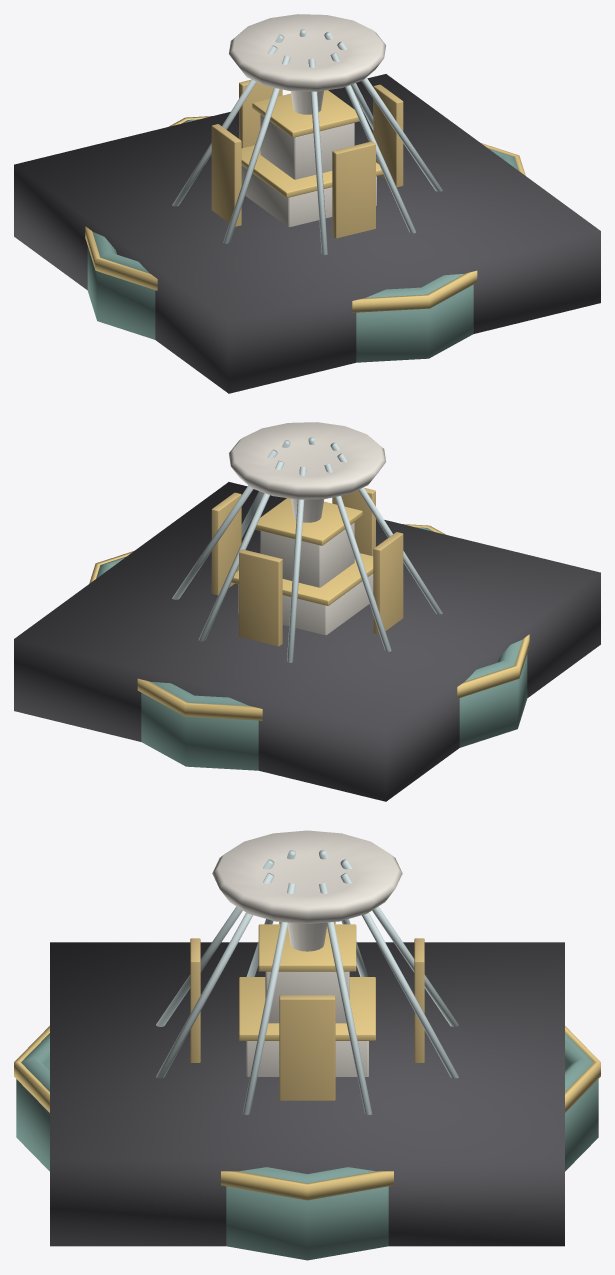
File: fontana.glb
The picture shows the model from 3 angles, top to bottom: view 1: azimuth 30°, elevation 25°; view 2: azimuth 150°, elevation 25°; view 3: azimuth 270°, elevation 25°; orthographic projection. The views are drawn at different scales.
Parts seen in each view (by area): view 1: COL_fontana, vasca, coppa, aletta_3, vasca_bordo, pilone_2, aletta_2, pilone_1, pilone_oro_2, aletta_0, pilone_oro_1, aletta_1 (+5 smaller); view 2: COL_fontana, vasca, coppa, aletta_1, vasca_bordo, pilone_2, aletta_2, pilone_1, pilone_oro_2, aletta_0, pilone_oro_1, aletta_3 (+5 smaller); view 3: COL_fontana, vasca, coppa, aletta_0, vasca_bordo, pilone_oro_1, pilone_oro_2, pilone_2, pilone_1, zampillo_0, zampillo_7, zampillo_1 (+5 smaller).
Boxes of the visible parts, bbox=[...] form: COL_fontana: bbox=[14, 74, 600, 393]; vasca: bbox=[87, 119, 518, 362]; coppa: bbox=[229, 14, 385, 114]; aletta_3: bbox=[332, 141, 375, 238]; vasca_bordo: bbox=[85, 116, 525, 312]; pilone_2: bbox=[260, 114, 354, 179]; aletta_2: bbox=[211, 124, 241, 226]; pilone_1: bbox=[241, 165, 376, 226]; pilone_oro_2: bbox=[252, 90, 359, 137]; aletta_0: bbox=[373, 84, 403, 187]; pilone_oro_1: bbox=[241, 145, 383, 197]; aletta_1: bbox=[239, 80, 282, 148]; COL_fontana: bbox=[14, 482, 600, 801]; vasca: bbox=[96, 527, 527, 770]; coppa: bbox=[229, 422, 385, 522]; aletta_1: bbox=[239, 549, 282, 646]; vasca_bordo: bbox=[89, 524, 529, 720]; pilone_2: bbox=[260, 522, 354, 587]; aletta_2: bbox=[373, 532, 403, 634]; pilone_1: bbox=[238, 573, 373, 634]; pilone_oro_2: bbox=[255, 498, 362, 545]; aletta_0: bbox=[211, 492, 241, 595]; pilone_oro_1: bbox=[231, 553, 373, 605]; aletta_3: bbox=[332, 488, 375, 556]; COL_fontana: bbox=[50, 942, 564, 1246]; vasca: bbox=[16, 1033, 598, 1260]; coppa: bbox=[212, 830, 402, 951]; aletta_0: bbox=[279, 995, 335, 1100]; vasca_bordo: bbox=[14, 1026, 600, 1200]; pilone_oro_1: bbox=[239, 977, 375, 1040]; pilone_oro_2: bbox=[258, 924, 356, 971]; pilone_2: bbox=[265, 971, 349, 1023]; pilone_1: bbox=[246, 1041, 368, 1076]; zampillo_0: bbox=[319, 883, 372, 1114]; zampillo_7: bbox=[242, 883, 295, 1114]; zampillo_1: bbox=[340, 873, 458, 1078].
Size of the model in its own units: 5.24 by 2.67 by 5.24.
